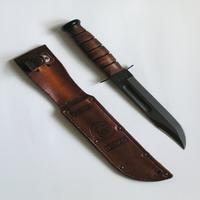knife: (62, 18, 187, 146)
